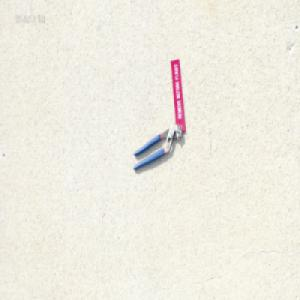Label: (168, 57, 185, 132)
Pliers: (132, 122, 182, 171)
